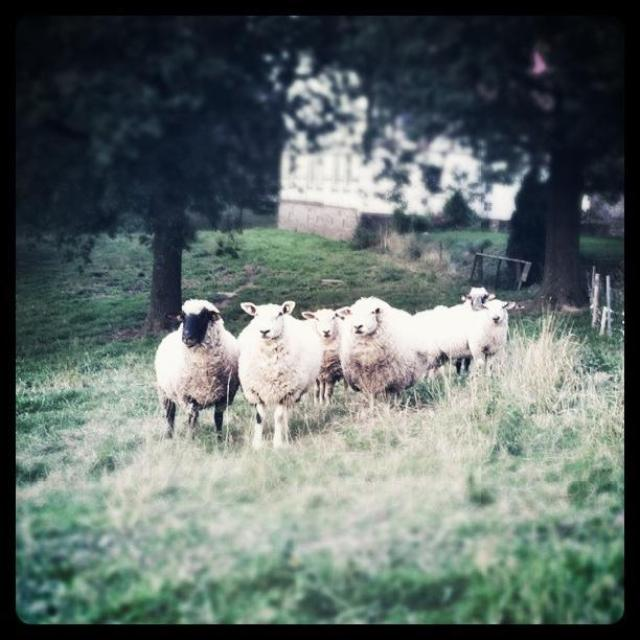Sheep: (152, 295, 242, 447), (238, 300, 326, 451), (336, 297, 422, 397), (411, 299, 514, 380), (302, 310, 350, 406)
